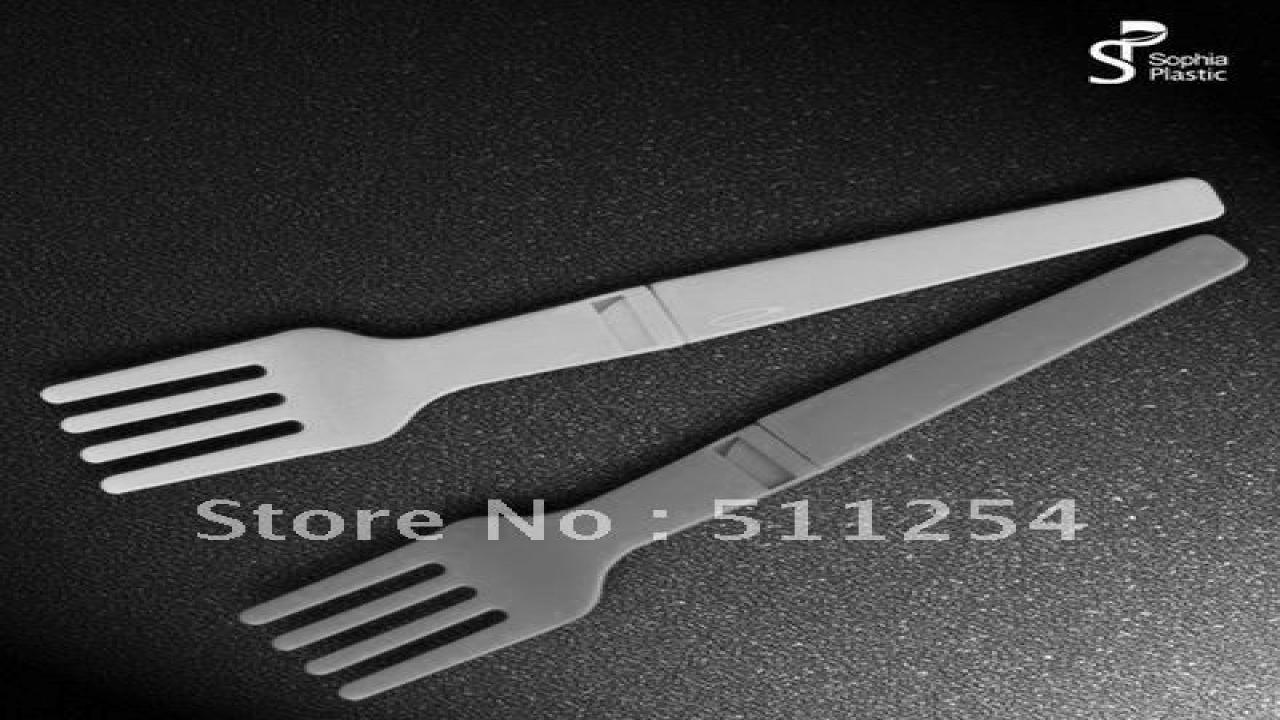fork: (232, 230, 1248, 702), (34, 174, 1226, 495)
